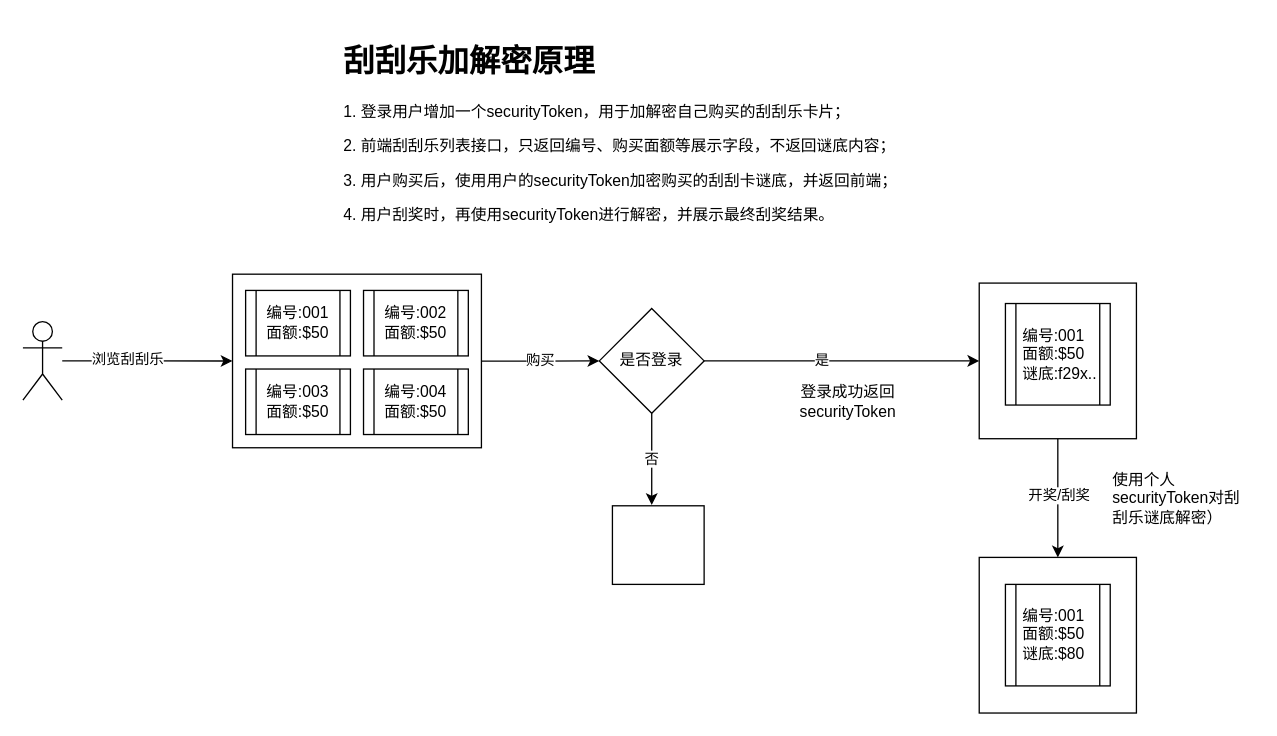
Image size: 1277x736. Some labels were removed from this diagram. Here are the shapes that lost their labels. From the top down, the centre of each, then its label:
(42,360): 用户
(657,544): 去登录
